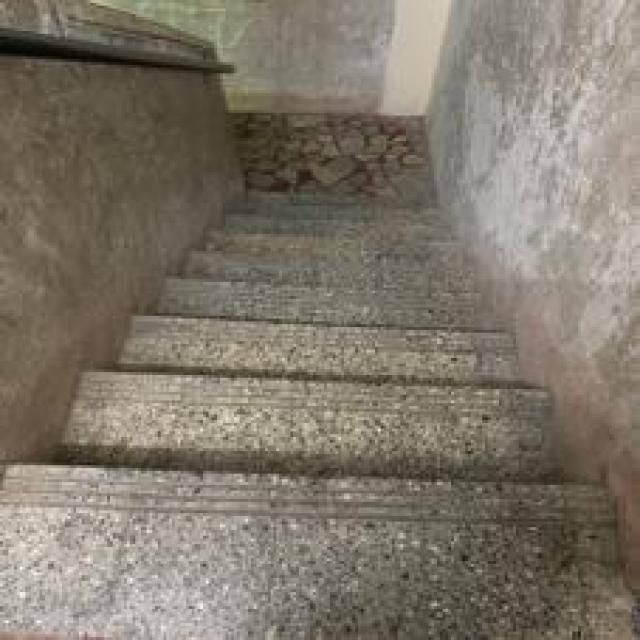downstair: (32, 295, 593, 526)
